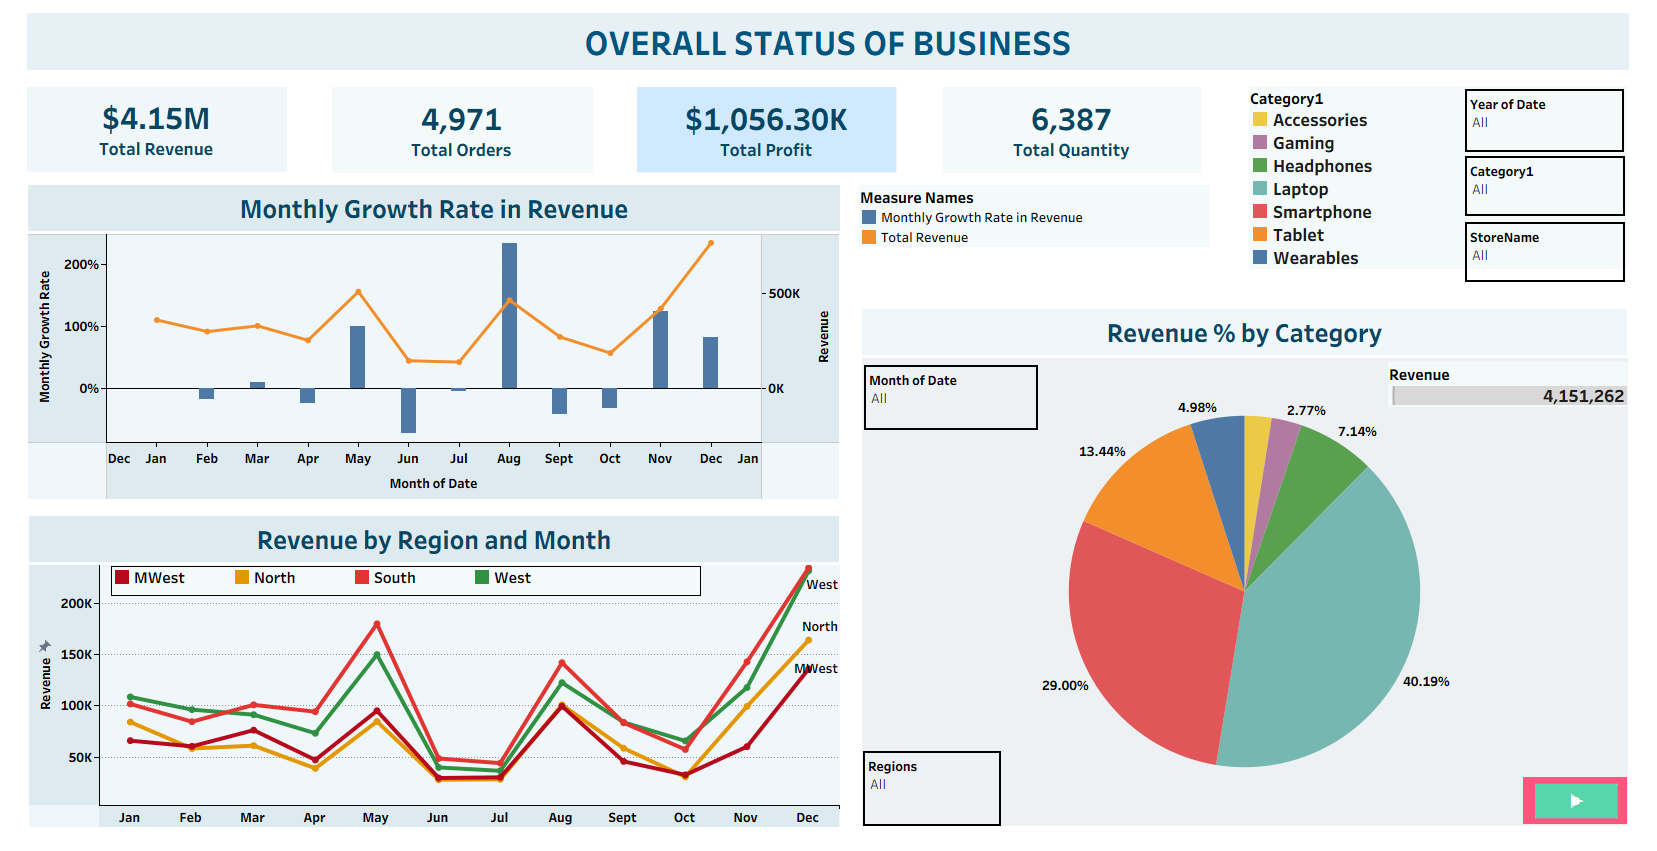

Layout of this report page (visuals, bound fields, positions):
{"tool":"tableau","page":{"name":"Dashboard 1","canvas":[1000,1000],"units":"permille","ordinal":0},"visuals":[{"type":"worksheet","title":"Sheet 8 (2)","mark":"Automatic","box":[16.3,15.1,966.7,70.2]},{"type":"worksheet","title":"1-1 (2)","mark":"Automatic","box":[16.3,84.2,156.2,116.6]},{"type":"worksheet","title":"1-2 (2)","mark":"Automatic","box":[200.4,84.2,156.8,117.7]},{"type":"worksheet","title":"1-3 (2)","mark":"Automatic","box":[384.4,84.2,156.2,117.7]},{"type":"worksheet","title":"1-4 (2)","mark":"Automatic","box":[569,84.2,155,117.7]},{"type":"legend","title":"Revenue % by Category (2)","param":"[federated.1gkqmtb0ybhmqn11lutji0awsm6i (copy 2)].[none:Category:nk]","box":[753.6,101.5,228.2,235.4]},{"type":"filter","title":"1.Revenue by Region and Month (2)","param":"[federated.1gkqmtb0ybhmqn11lutji0awsm6i (copy 2)].[tyr:Date:ok]","box":[884,104.2,96,74.4]},{"type":"filter","title":"1.Revenue by Region and Month (2)","param":"[federated.1gkqmtb0ybhmqn11lutji0awsm6i (copy 2)].[none:Category:nk]","box":[884,183.6,96.6,70.7]},{"type":"worksheet","title":"7.Monthly Growth Rate in Revenue (2)","mark":"Automatic","rows":["Revenue"],"cols":["Date"],"box":[16.9,217.1,490.3,370.4]},{"type":"legend","title":"7.Monthly Growth Rate in Revenue (2)","param":"[federated.1gkqmtb0ybhmqn11lutji0awsm6i (copy 2)].[:Measure Names]","box":[518.2,217.1,211.3,118.8]},{"type":"filter","title":"1.Revenue by Region and Month (2)","param":"[federated.1gkqmtb0ybhmqn11lutji0awsm6i (copy 2)].[none:StoreName:nk]","box":[884,260.6,96.6,70.7]},{"type":"worksheet","title":"Revenue % by Category (2)","mark":"Pie","box":[520,362.9,461.9,606.9]},{"type":"legend","title":"Revenue % by Category (2)","param":"[federated.1gkqmtb0ybhmqn11lutji0awsm6i (copy 2)].[sum:Revenue:qk]","box":[837.8,425.5,144.1,72.4]},{"type":"filter","title":"1.Revenue by Region and Month (2)","param":"[federated.1gkqmtb0ybhmqn11lutji0awsm6i (copy 2)].[mn:Date:ok]","box":[521.5,429.3,104.7,75.7]},{"type":"worksheet","title":"1.Revenue by Region and Month (2)","mark":"Line","rows":["Revenue"],"cols":["Date"],"box":[17.6,605.8,489.1,365]},{"type":"legend","title":"1.Revenue by Region and Month (2)","param":"[federated.1gkqmtb0ybhmqn11lutji0awsm6i (copy 2)].[none:Region:nk]","box":[67.2,665.2,355.9,34.6]},{"type":"filter","title":"Revenue % by Category (2)","param":"[federated.1gkqmtb0ybhmqn11lutji0awsm6i (copy 2)].[none:Region:nk]","box":[520.9,882.1,83.1,88.1]},{"type":"dashboard-object","param":"[com.tableau.extensions.filterbookmarks.sandboxed].[1.0.0].[https://extensions.t","box":[918.9,912.5,63,56.2]}]}

Visuals, with their boxes on the dashboard's canvas, which has no fixed pixel size, in thousandths of its width and height (x1, y1, x2, y2). These are canvas units, not pixel positions in the 1657x851 screenshot, which may show the page scaled, cropped or inside an application window:
"Sheet 8 (2)" worksheet: Rect(16, 15, 983, 85)
"1-1 (2)" worksheet: Rect(16, 84, 172, 201)
"1-2 (2)" worksheet: Rect(200, 84, 357, 202)
"1-3 (2)" worksheet: Rect(384, 84, 541, 202)
"1-4 (2)" worksheet: Rect(569, 84, 724, 202)
"Revenue % by Category (2)" legend: Rect(754, 102, 982, 337)
"1.Revenue by Region and Month (2)" filter: Rect(884, 104, 980, 179)
"1.Revenue by Region and Month (2)" filter: Rect(884, 184, 981, 254)
"7.Monthly Growth Rate in Revenue (2)" worksheet: Rect(17, 217, 507, 588)
"7.Monthly Growth Rate in Revenue (2)" legend: Rect(518, 217, 730, 336)
"1.Revenue by Region and Month (2)" filter: Rect(884, 261, 981, 331)
"Revenue % by Category (2)" worksheet (Pie marks): Rect(520, 363, 982, 970)
"Revenue % by Category (2)" legend: Rect(838, 426, 982, 498)
"1.Revenue by Region and Month (2)" filter: Rect(522, 429, 626, 505)
"1.Revenue by Region and Month (2)" worksheet (Line marks): Rect(18, 606, 507, 971)
"1.Revenue by Region and Month (2)" legend: Rect(67, 665, 423, 700)
"Revenue % by Category (2)" filter: Rect(521, 882, 604, 970)
dashboard-object: Rect(919, 912, 982, 969)
